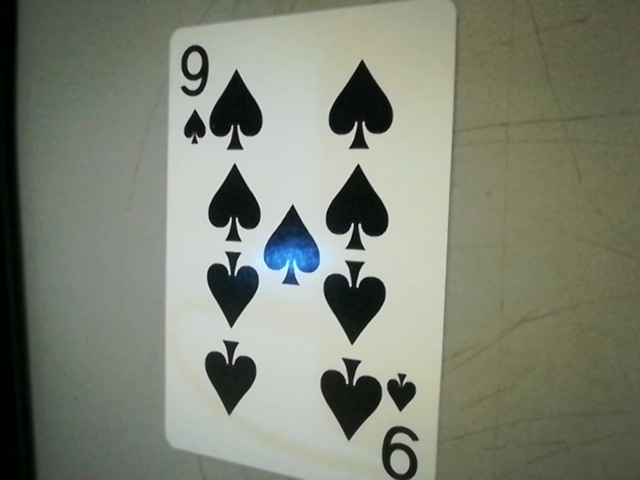ht 9: (372, 363, 434, 480), (166, 38, 221, 147)
